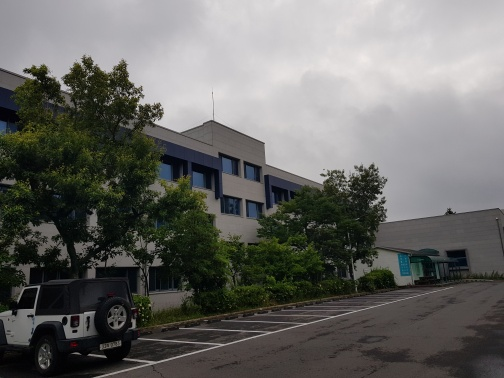College of Social Sciences: (55, 97, 484, 279)
